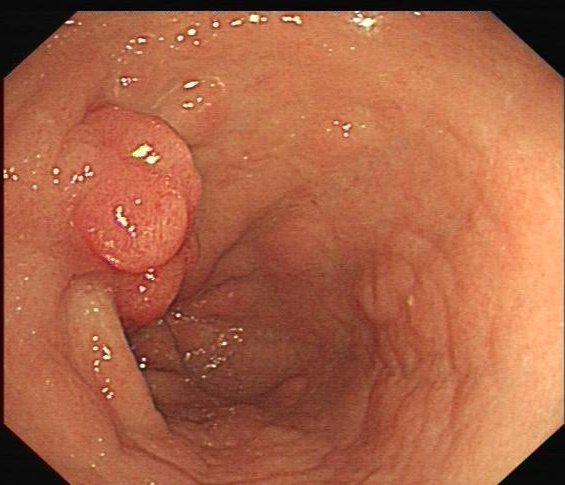Polyp: (66, 102, 206, 275)
